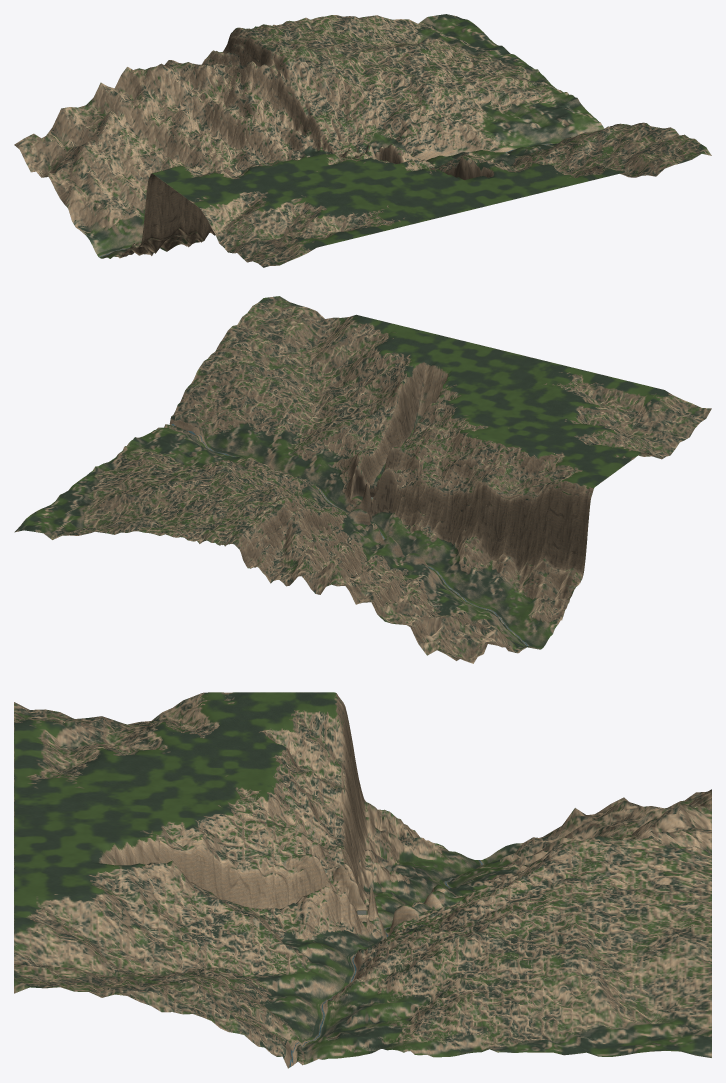
File: Gorge_LOD1.fbx
The picture shows the model from 3 angles, top to bottom: view 1: azimuth 30°, elevation 25°; view 2: azimuth 150°, elevation 25°; view 3: azimuth 270°, elevation 25°; orthographic projection. The views are drawn at different scales.
Parts seen in each view (by area): view 1: Gorge_LOD1; view 2: Gorge_LOD1; view 3: Gorge_LOD1.
Boxes of the visible parts, left/top/right/bottom form: Gorge_LOD1: left=14, top=14, right=711, bottom=267; Gorge_LOD1: left=14, top=296, right=711, bottom=663; Gorge_LOD1: left=14, top=692, right=711, bottom=1068.
Bounding box in the file's own units: 256000 × 68141 × 256000.
1 material, 1 textured.
